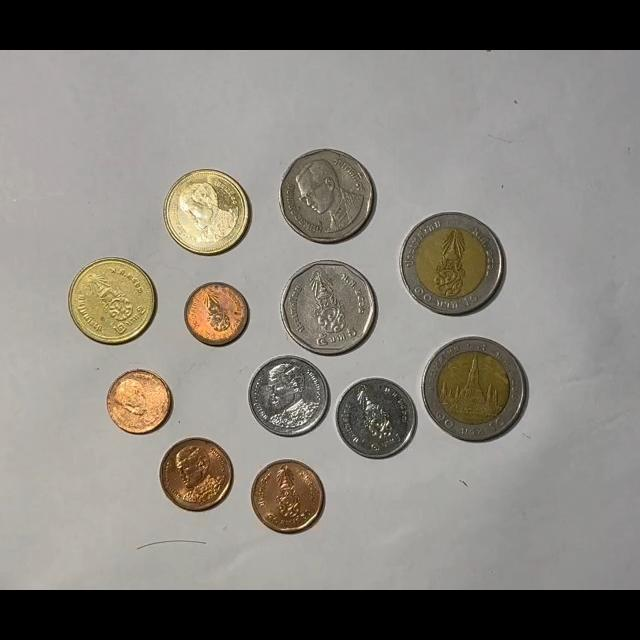1-baht: (335, 377, 418, 459), (248, 355, 329, 437)
10-baht: (422, 336, 527, 441), (399, 212, 505, 316)
2-baht: (163, 168, 251, 256), (68, 257, 156, 345)
25-satang: (106, 368, 173, 434), (184, 281, 250, 347)
5-baht: (280, 260, 377, 356), (278, 148, 376, 243)
50-satang: (159, 437, 234, 511), (250, 459, 324, 534)
